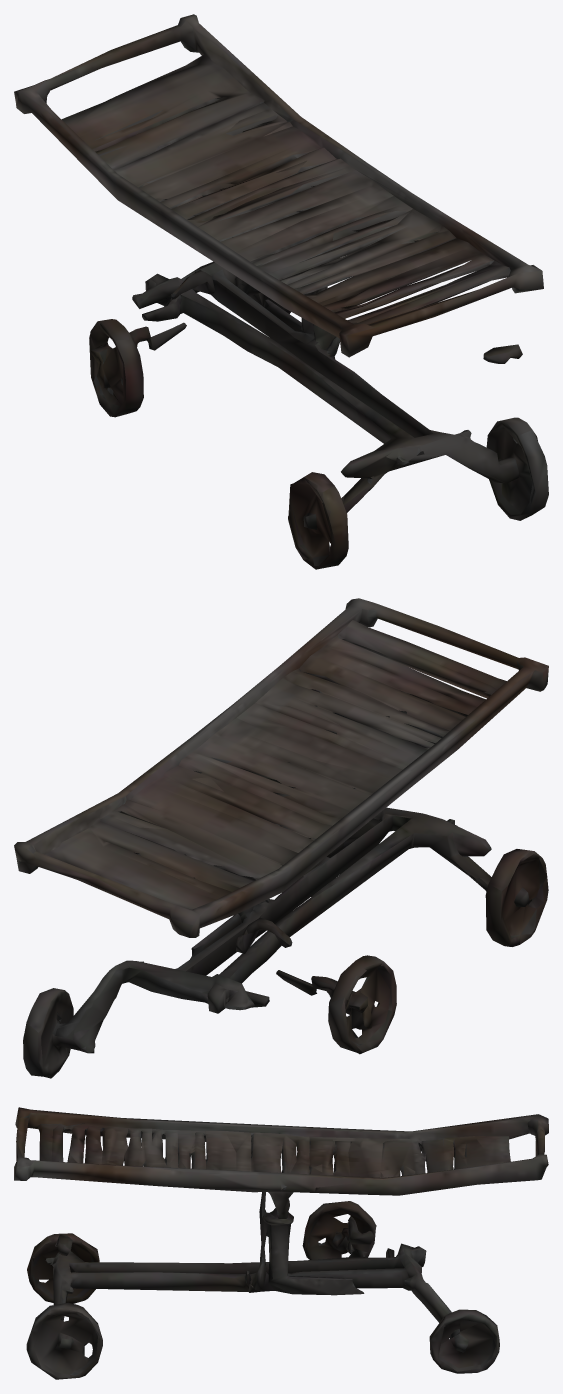
File: weathered-iron-gurney-v001.glb
3 views of the same model, one above another, from view 1: azimuth 30°, elevation 25°; view 2: azimuth 150°, elevation 25°; view 3: azimuth 270°, elevation 25° (orthographic). The views are drawn at different scales.
Parts seen in each view (by area): view 1: weathered-iron-gurney; view 2: weathered-iron-gurney; view 3: weathered-iron-gurney.
Part boxes in pixels (left/top/right/bottom): weathered-iron-gurney: left=14, top=14, right=548, bottom=569; weathered-iron-gurney: left=14, top=598, right=548, bottom=1078; weathered-iron-gurney: left=14, top=1107, right=548, bottom=1379.
Bounding box in the file's own units: 0.905 × 0.9498 × 2.14.
Materials: 1 (1 with a texture image).
